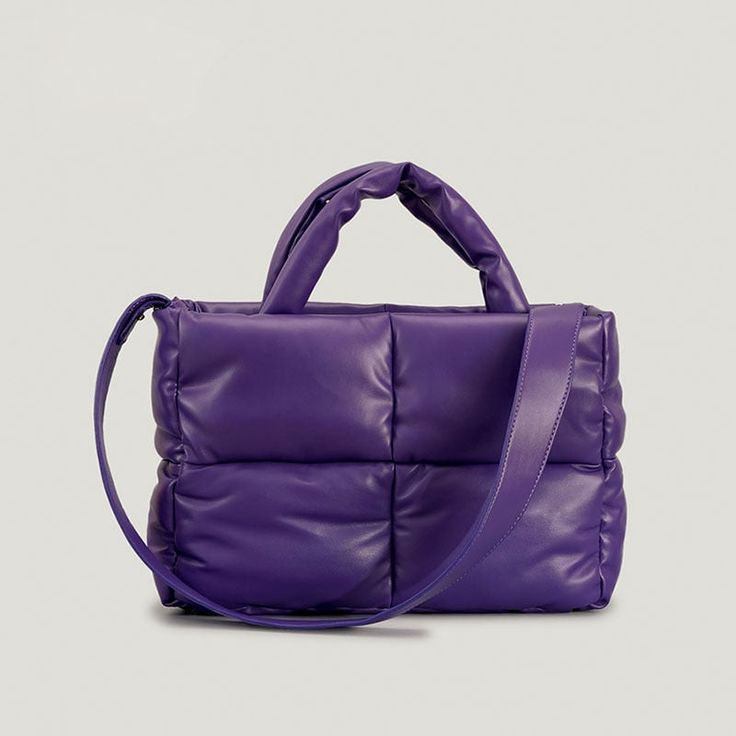nylon: (93, 160, 628, 630)
